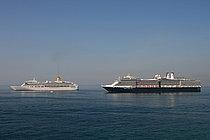Ship: (98, 72, 207, 96)
